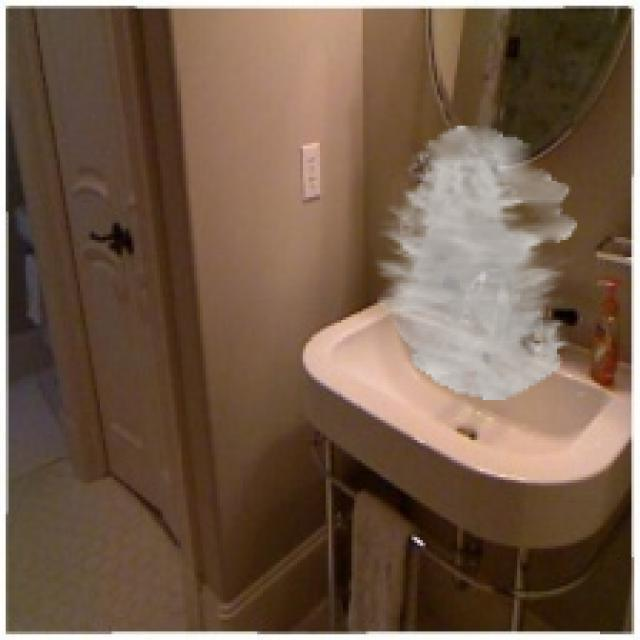Smoke: (374, 126, 577, 400)
